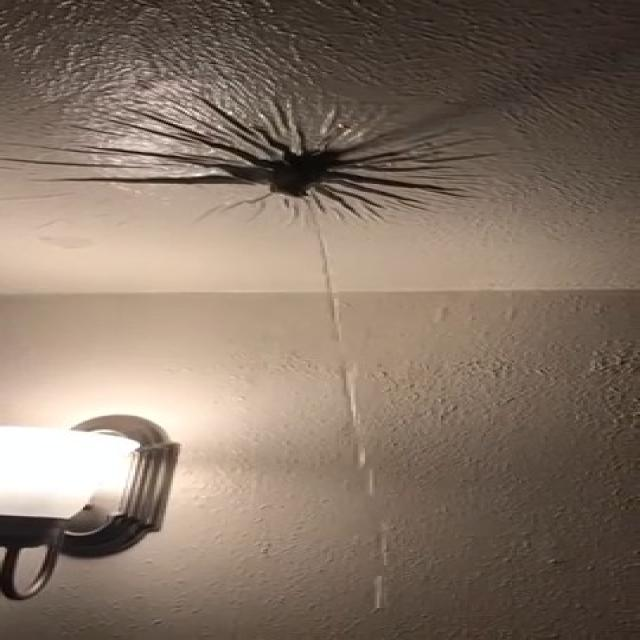leak: (341, 362, 366, 470), (319, 230, 340, 344), (368, 468, 381, 511), (378, 515, 388, 561), (375, 575, 382, 608)
